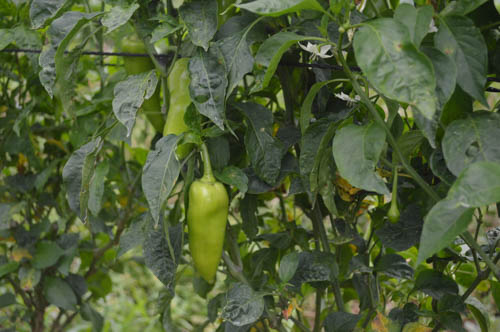ChiliPepper: (186, 181, 229, 286), (119, 40, 166, 133), (166, 59, 200, 161)
